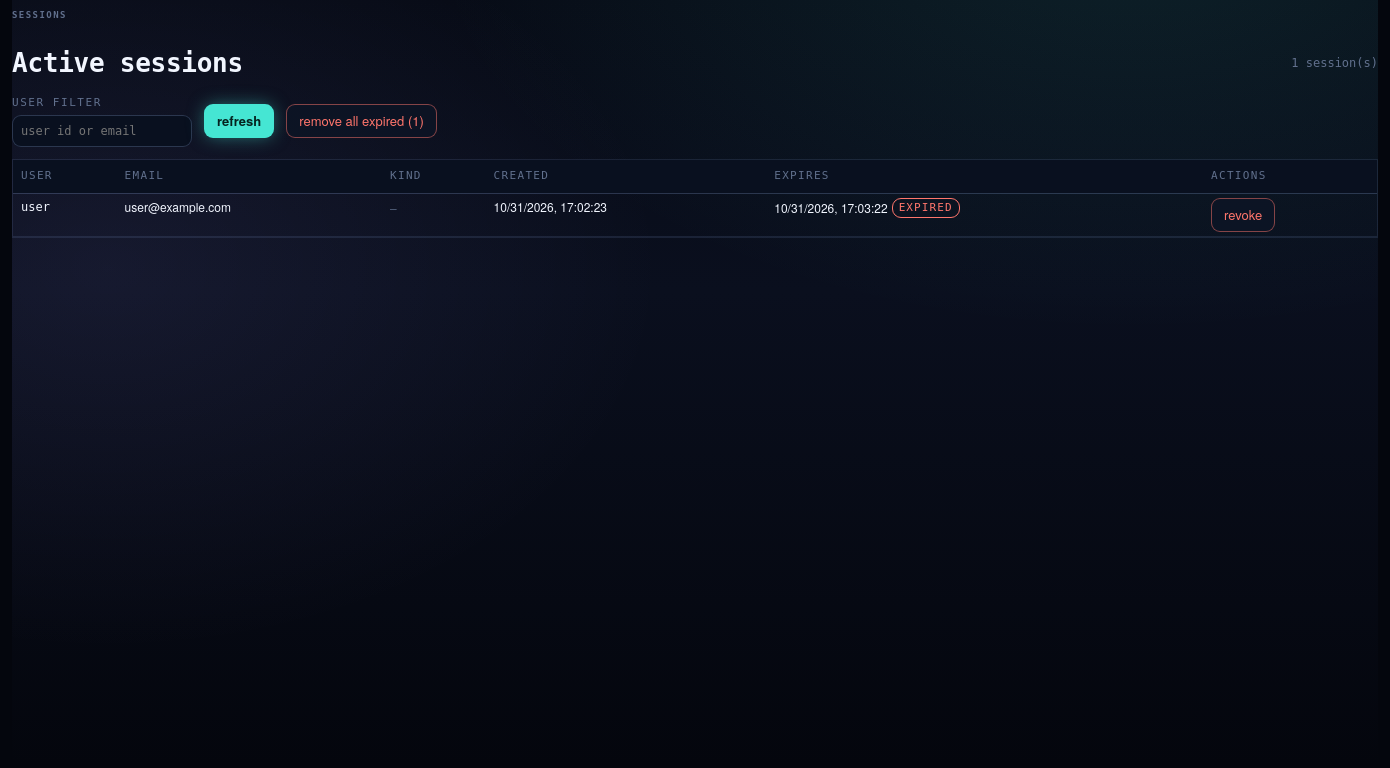
Test: SessionsPage › surfaces a bulk failure as the page action error
Expected: the table is shown, 13,160 -> 1377,236
What coordinates should you click on to do the following:
click the button "remove all expired (1)"
I would click on:
 (362, 121)
Its box is 286,104 -> 437,138.
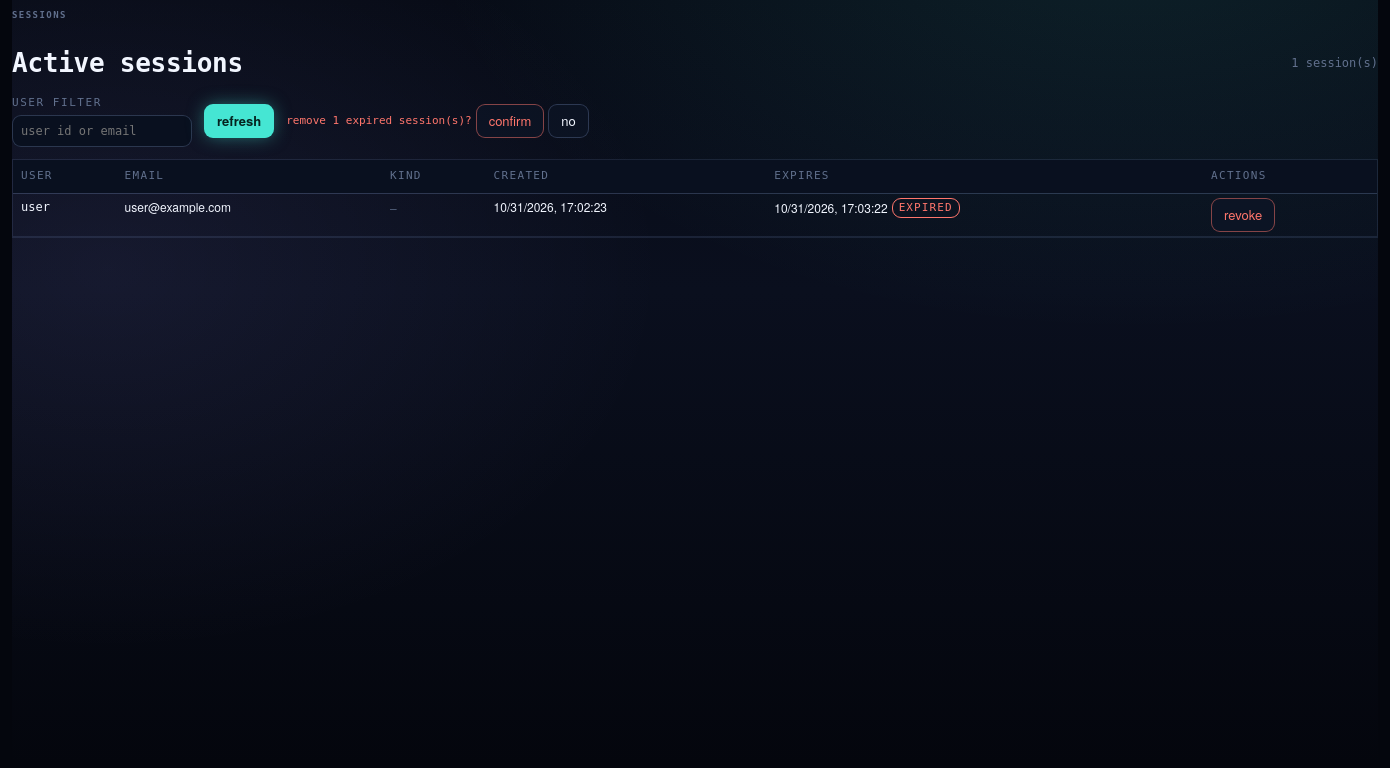
What coordinates should you click on to do the following:
click the button "confirm"
I would click on:
 (510, 121)
Its box is 476,104 -> 544,138.
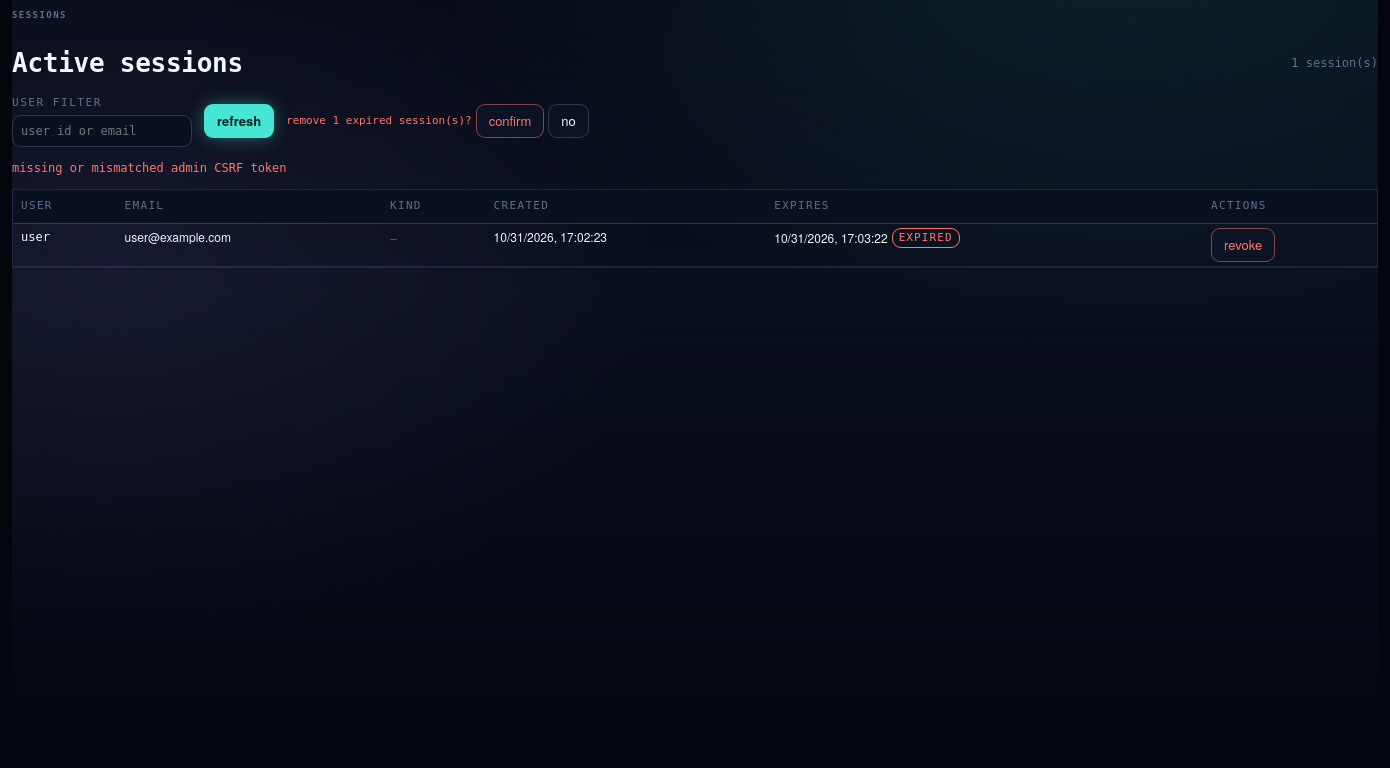
Expected: the text "missing or mismatched admin CSRF token" is shown, 12,161 -> 286,175
